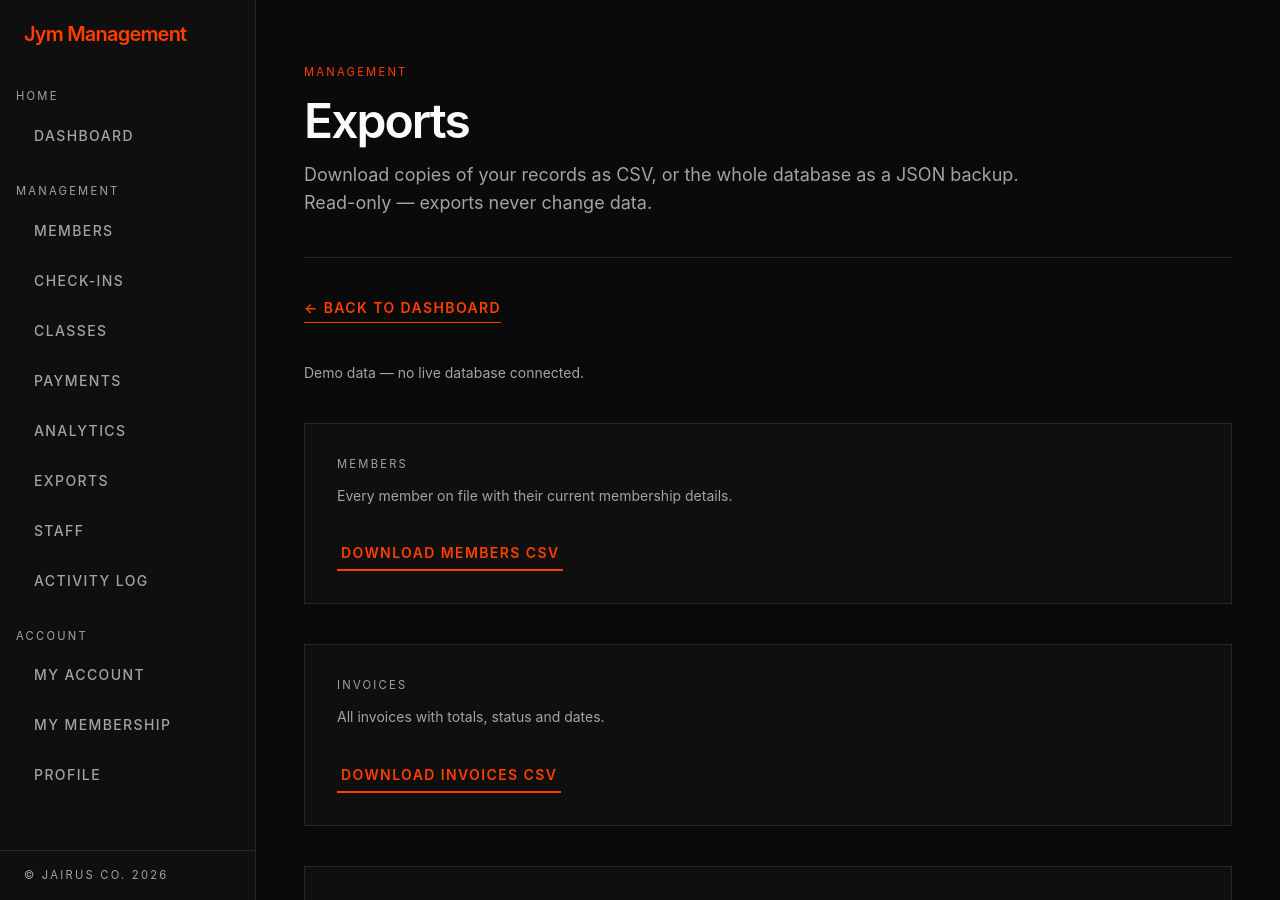
Test: ExportPage › downloads the members CSV from the mock repository
Click the button "Download members CSV" at (450, 553), box top-left (337, 535), bottom-right (564, 571)
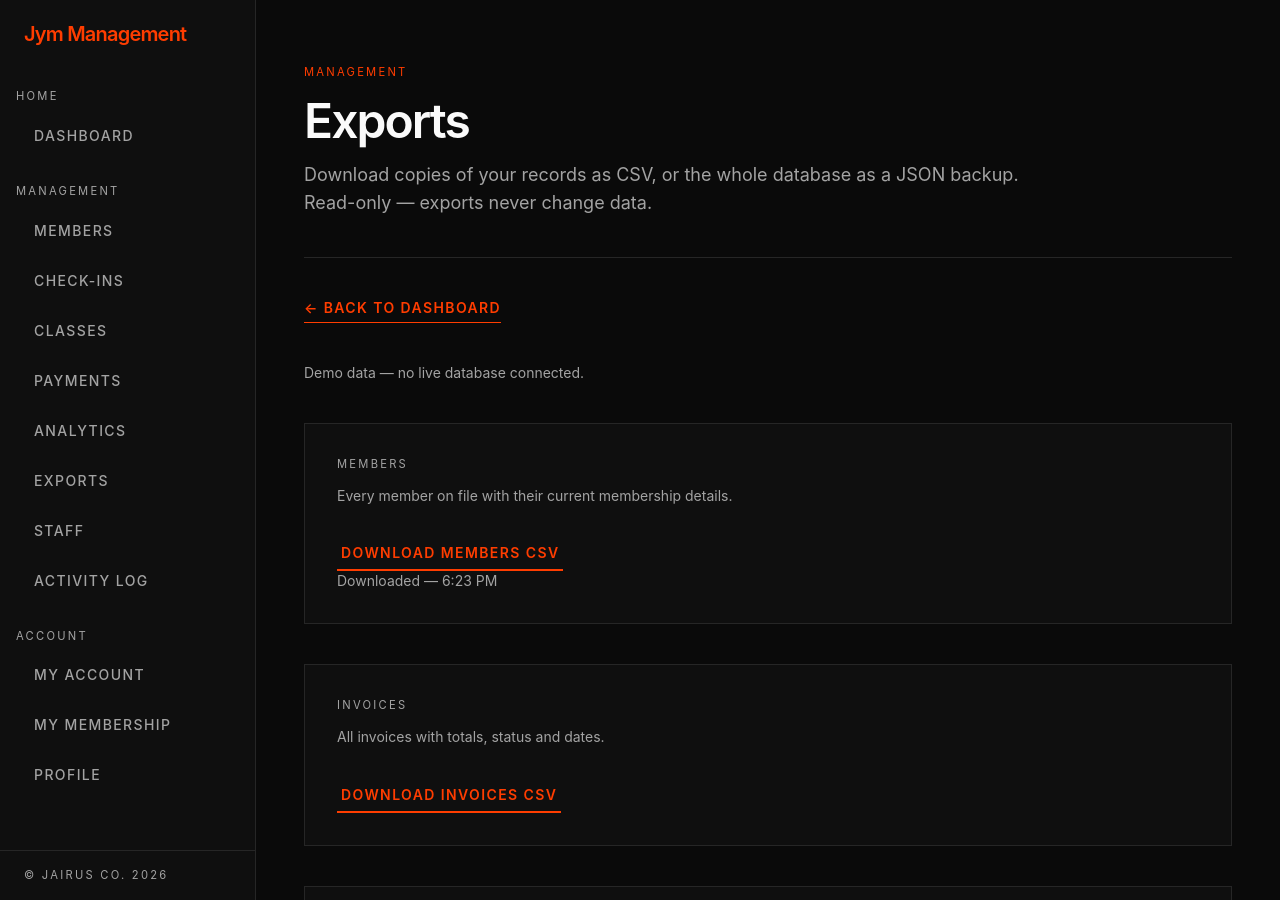
Result: the text "Downloaded — 6:23 PM" is shown at top-left (337, 572), bottom-right (497, 589)
